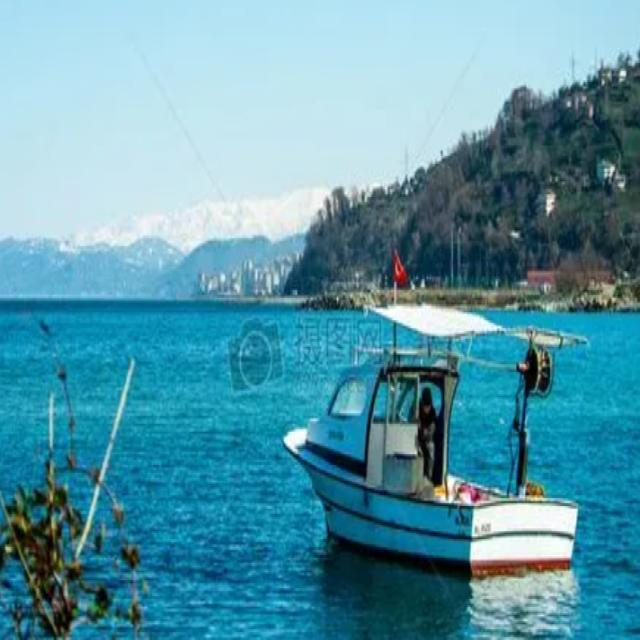houseboat: (285, 322, 577, 580)
